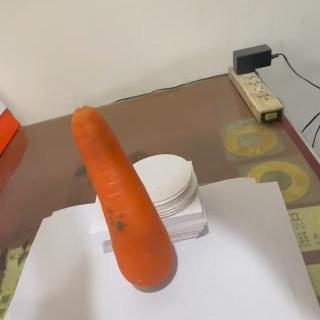carrot: (71, 103, 179, 289)
